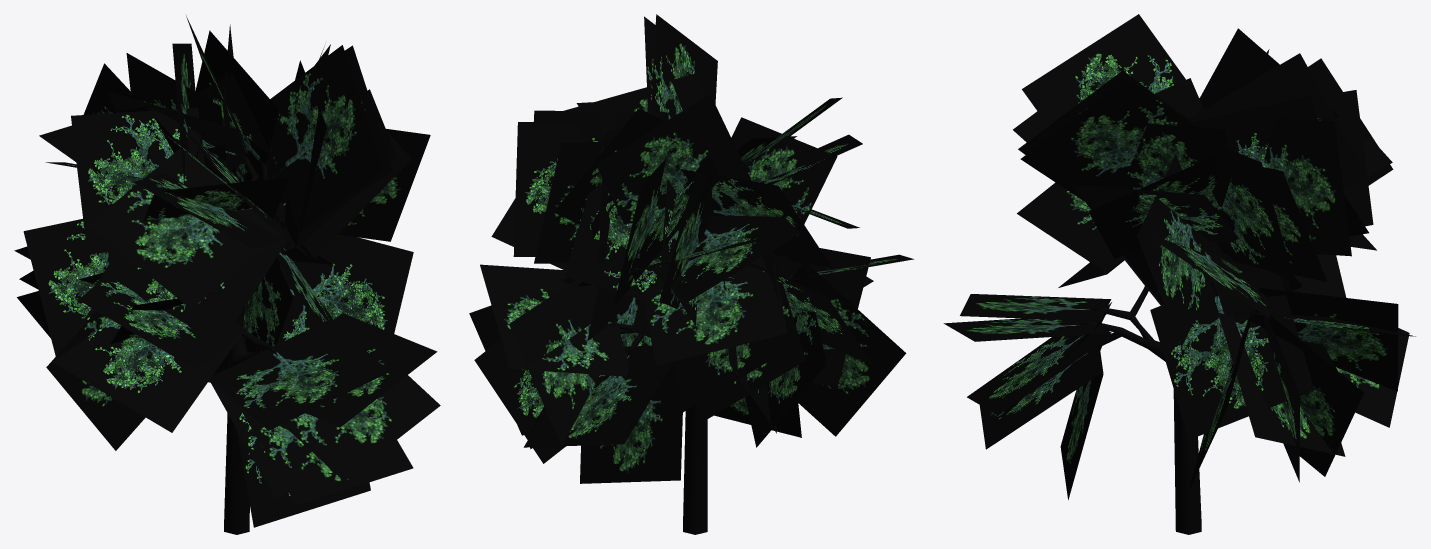
The model's file is tree6.glb.
The picture shows the model from 3 angles, left to right: view 1: azimuth 30°, elevation 25°; view 2: azimuth 150°, elevation 25°; view 3: azimuth 270°, elevation 25°; orthographic projection. The views are drawn at different scales.
Size of the model in its own units: 5.93 by 6.94 by 6.02.
2 materials, 1 textured.
